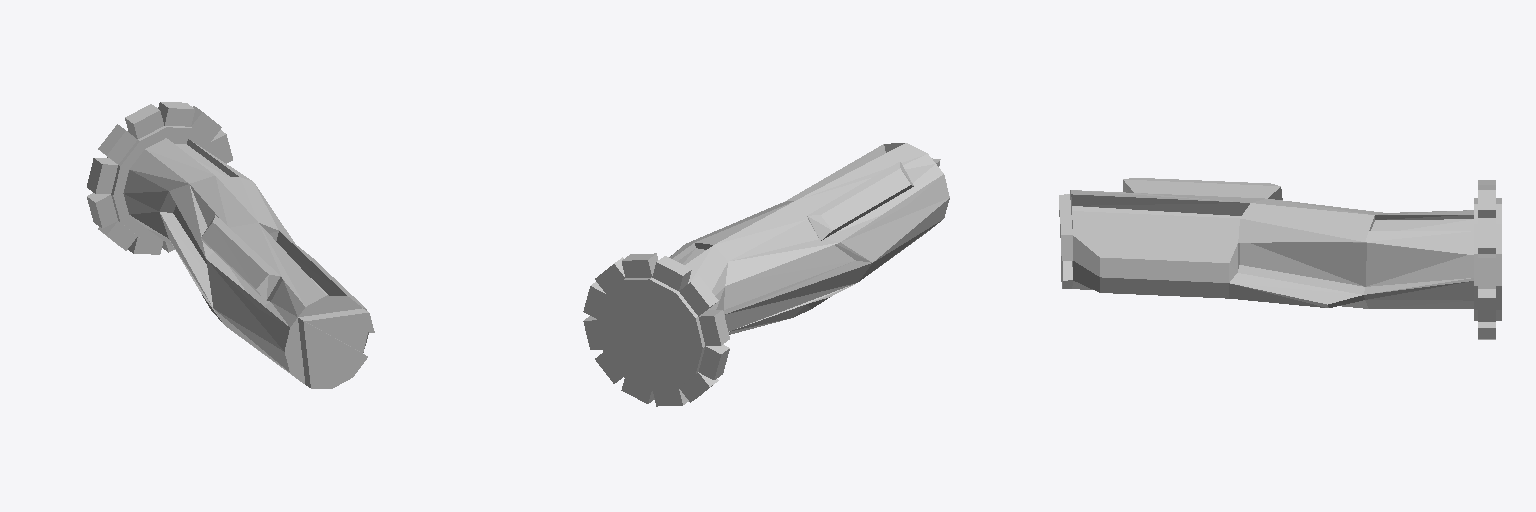
File: tree-stump.obj
3 renders of one model, left to right at view 1: azimuth 30°, elevation 25°; view 2: azimuth 150°, elevation 25°; view 3: azimuth 270°, elevation 25°, orthographic.
Parts seen in each view (by area): view 1: Tree.Trunk; view 2: Tree.Trunk; view 3: Tree.Trunk.
Part boxes in pixels (x1,y1,x2,y2): Tree.Trunk: (87, 102, 374, 388); Tree.Trunk: (583, 143, 949, 406); Tree.Trunk: (1059, 178, 1501, 339).
Size of the model in its own units: 3.56 by 3.2 by 8.9.